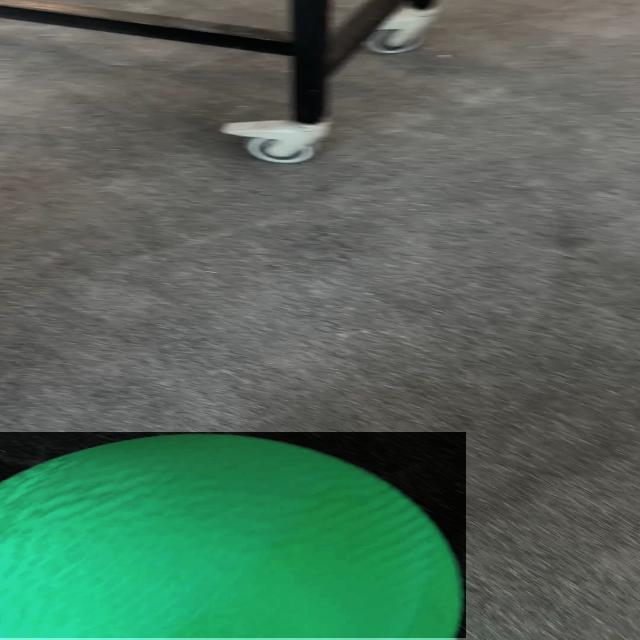Algae: (1, 432, 467, 638)
